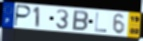1: (32, 6, 41, 29)
3: (55, 9, 70, 30)
6: (113, 13, 126, 36)
B: (71, 10, 90, 33)
L: (94, 12, 108, 33)
P: (13, 4, 33, 28)
